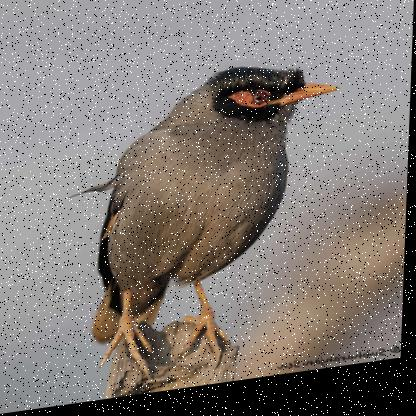Burung: (92, 62, 345, 382)
